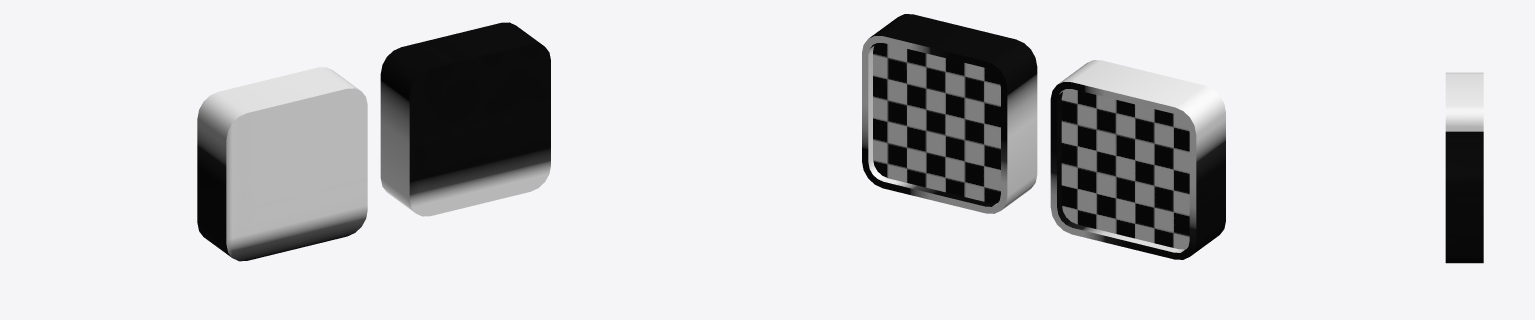
Rendered from Dice and Block.FBX.
The picture shows the model from 3 angles, left to right: view 1: azimuth 30°, elevation 25°; view 2: azimuth 150°, elevation 25°; view 3: azimuth 270°, elevation 25°; orthographic projection. The views are drawn at different scales.
Visible parts, largest first — view 1: Blocky, Blocky 001; view 2: Blocky 001, Blocky; view 3: Blocky, Blocky 001.
Boxes of the visible parts, <box> form: Blocky: <box>380,22,550,216</box>; Blocky 001: <box>197,67,367,261</box>; Blocky 001: <box>1050,60,1225,259</box>; Blocky: <box>862,14,1037,213</box>; Blocky: <box>1445,131,1483,263</box>; Blocky 001: <box>1445,72,1483,131</box>.
Size of the model in its own units: 115 by 25.37 by 18.37.
